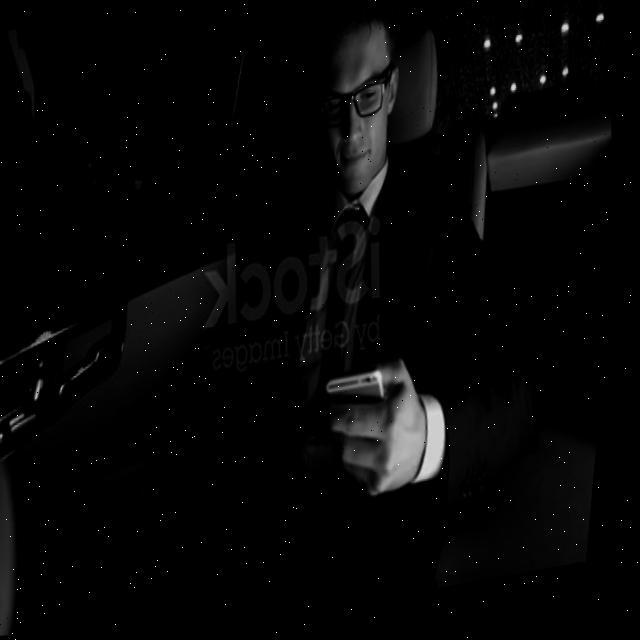PhoneCall: (322, 372, 404, 501)
